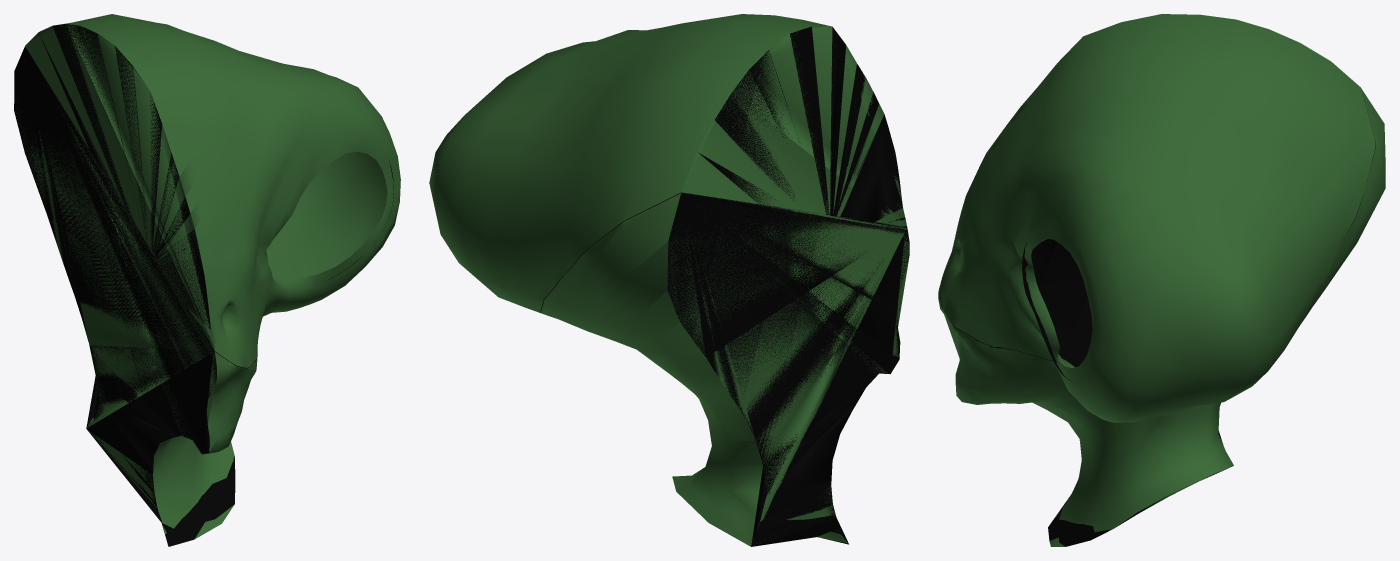
Rendered from alien3forward-compressed.glb.
3 renders of one model, left to right at view 1: azimuth 30°, elevation 25°; view 2: azimuth 150°, elevation 25°; view 3: azimuth 270°, elevation 25°, orthographic. The views are drawn at different scales.
Parts seen in each view (by area): view 1: Object_3_cell.002; view 2: Object_3_cell.002; view 3: Object_3_cell.002.
Boxes of the visible parts, box(x1,y1,x2,y2) form: Object_3_cell.002: box(14, 14, 400, 546); Object_3_cell.002: box(429, 14, 909, 546); Object_3_cell.002: box(938, 14, 1385, 546).
Bounding box in the file's own units: 0.6434 × 1.05 × 0.8288.
